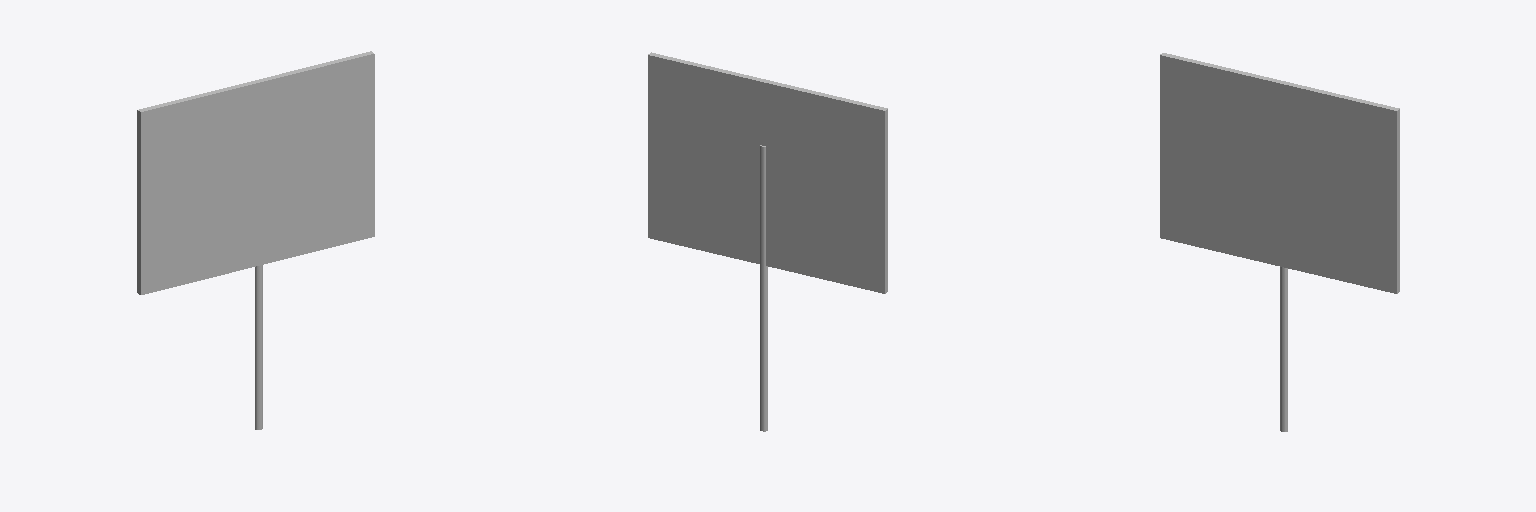
Rendered from board_33.obj.
3 renders of one model, left to right at view 1: azimuth 30°, elevation 25°; view 2: azimuth 150°, elevation 25°; view 3: azimuth 330°, elevation 25°, orthographic.
Parts seen in each view (by area): view 1: Cube.005_Cube.006, Cylinder.005; view 2: Cube.005_Cube.006, Cylinder.005; view 3: Cube.005_Cube.006, Cylinder.005.
Boxes of the visible parts, x1=… form: Cube.005_Cube.006: x1=137, y1=51, x2=374, y2=294; Cylinder.005: x1=255, y1=265, x2=262, y2=429; Cube.005_Cube.006: x1=648, y1=52, x2=887, y2=293; Cylinder.005: x1=760, y1=145, x2=767, y2=431; Cube.005_Cube.006: x1=1160, y1=53, x2=1399, y2=293; Cylinder.005: x1=1280, y1=267, x2=1287, y2=431.
Size of the model in its own units: 0.4517 by 0.6384 by 0.0174.